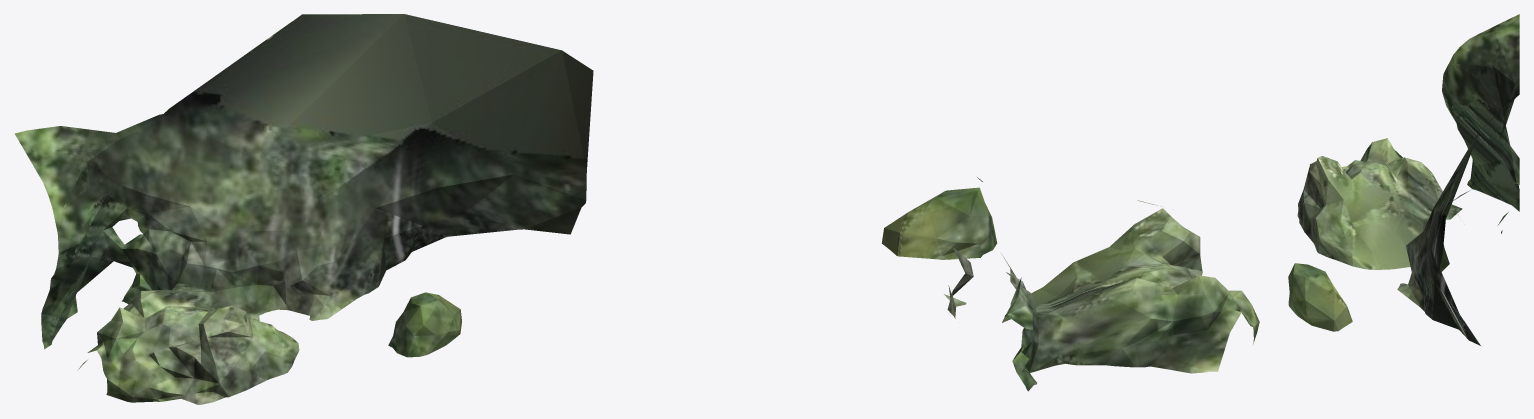
3 views of the same model, side by side, from view 1: azimuth 30°, elevation 25°; view 2: azimuth 150°, elevation 25°; view 3: azimuth 270°, elevation 25° (orthographic). The views are drawn at different scales.
Size of the model in its own units: 26.11 by 11.83 by 11.6.
2 materials, 2 textured.
